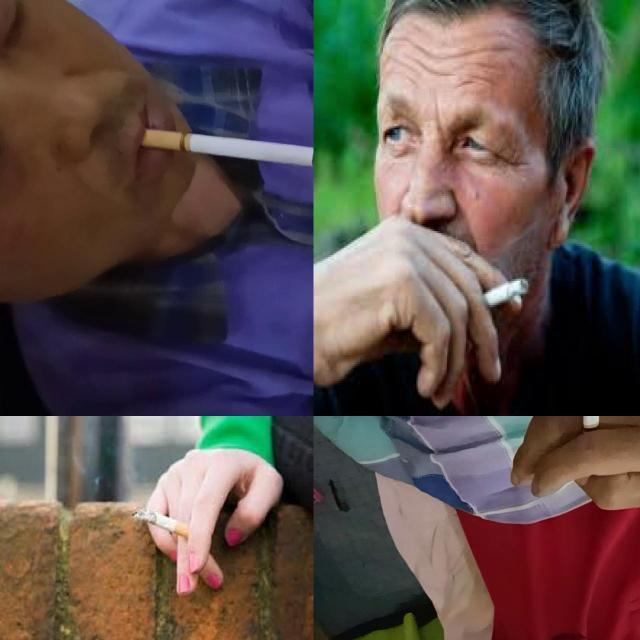smoke: (141, 128, 313, 170), (132, 508, 192, 540), (475, 277, 531, 309), (582, 416, 602, 450)
